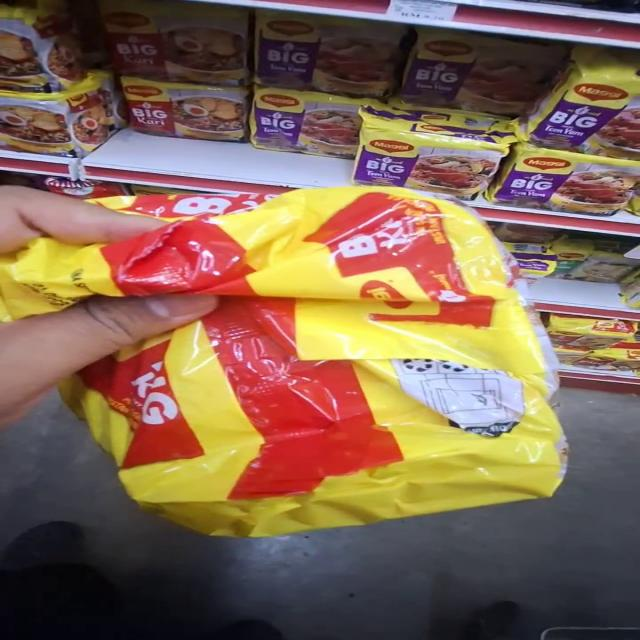Maggi: (4, 186, 578, 532)
